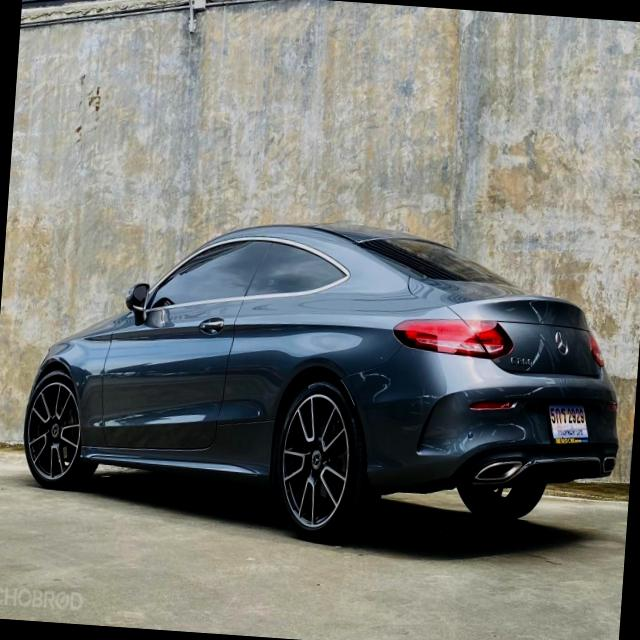license_plate: (545, 399, 594, 449)
